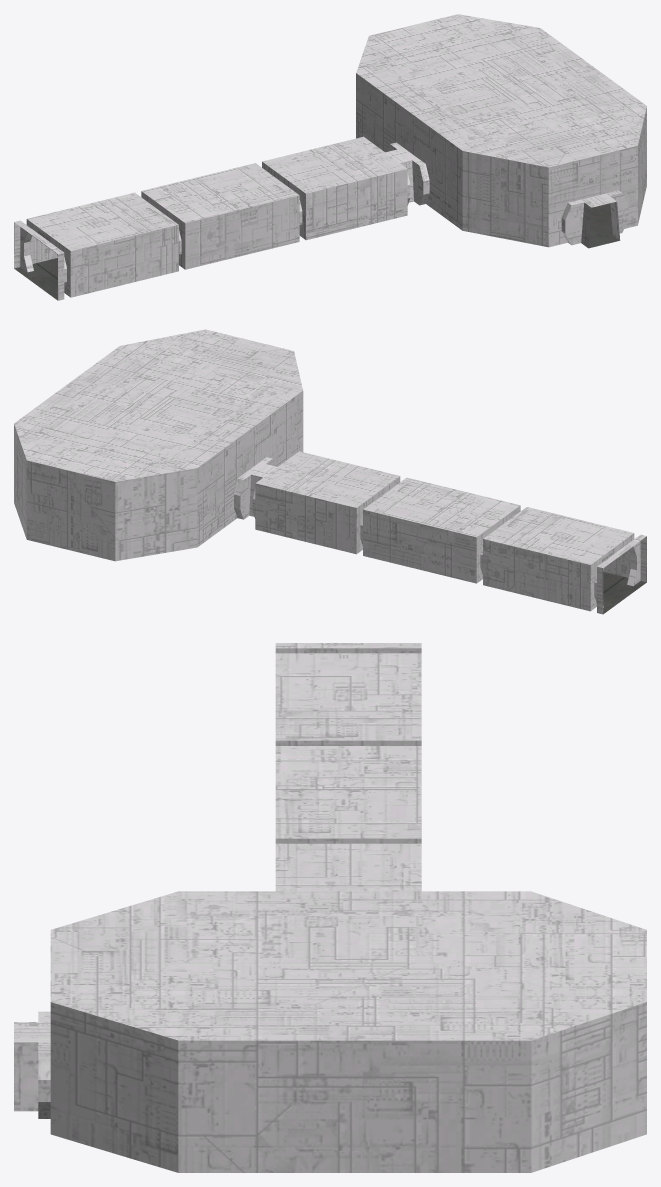
Rendered from thm_spc_star_destroyer_s01_r2_weaponsctrl_mesh_r2.fbx.
3 views of the same model, one above another, from view 1: azimuth 30°, elevation 25°; view 2: azimuth 150°, elevation 25°; view 3: azimuth 270°, elevation 25° (orthographic). The views are drawn at different scales.
Parts seen in each view (by area): view 1: mesh_node; view 2: mesh_node; view 3: mesh_node.
Boxes of the visible parts, x1,y1,x2,y2 form: mesh_node: (14, 14, 646, 300); mesh_node: (14, 329, 646, 614); mesh_node: (14, 643, 646, 1172).
Bounding box in the file's own units: 44 × 6 × 26.
Materials: 2 (2 with a texture image).
